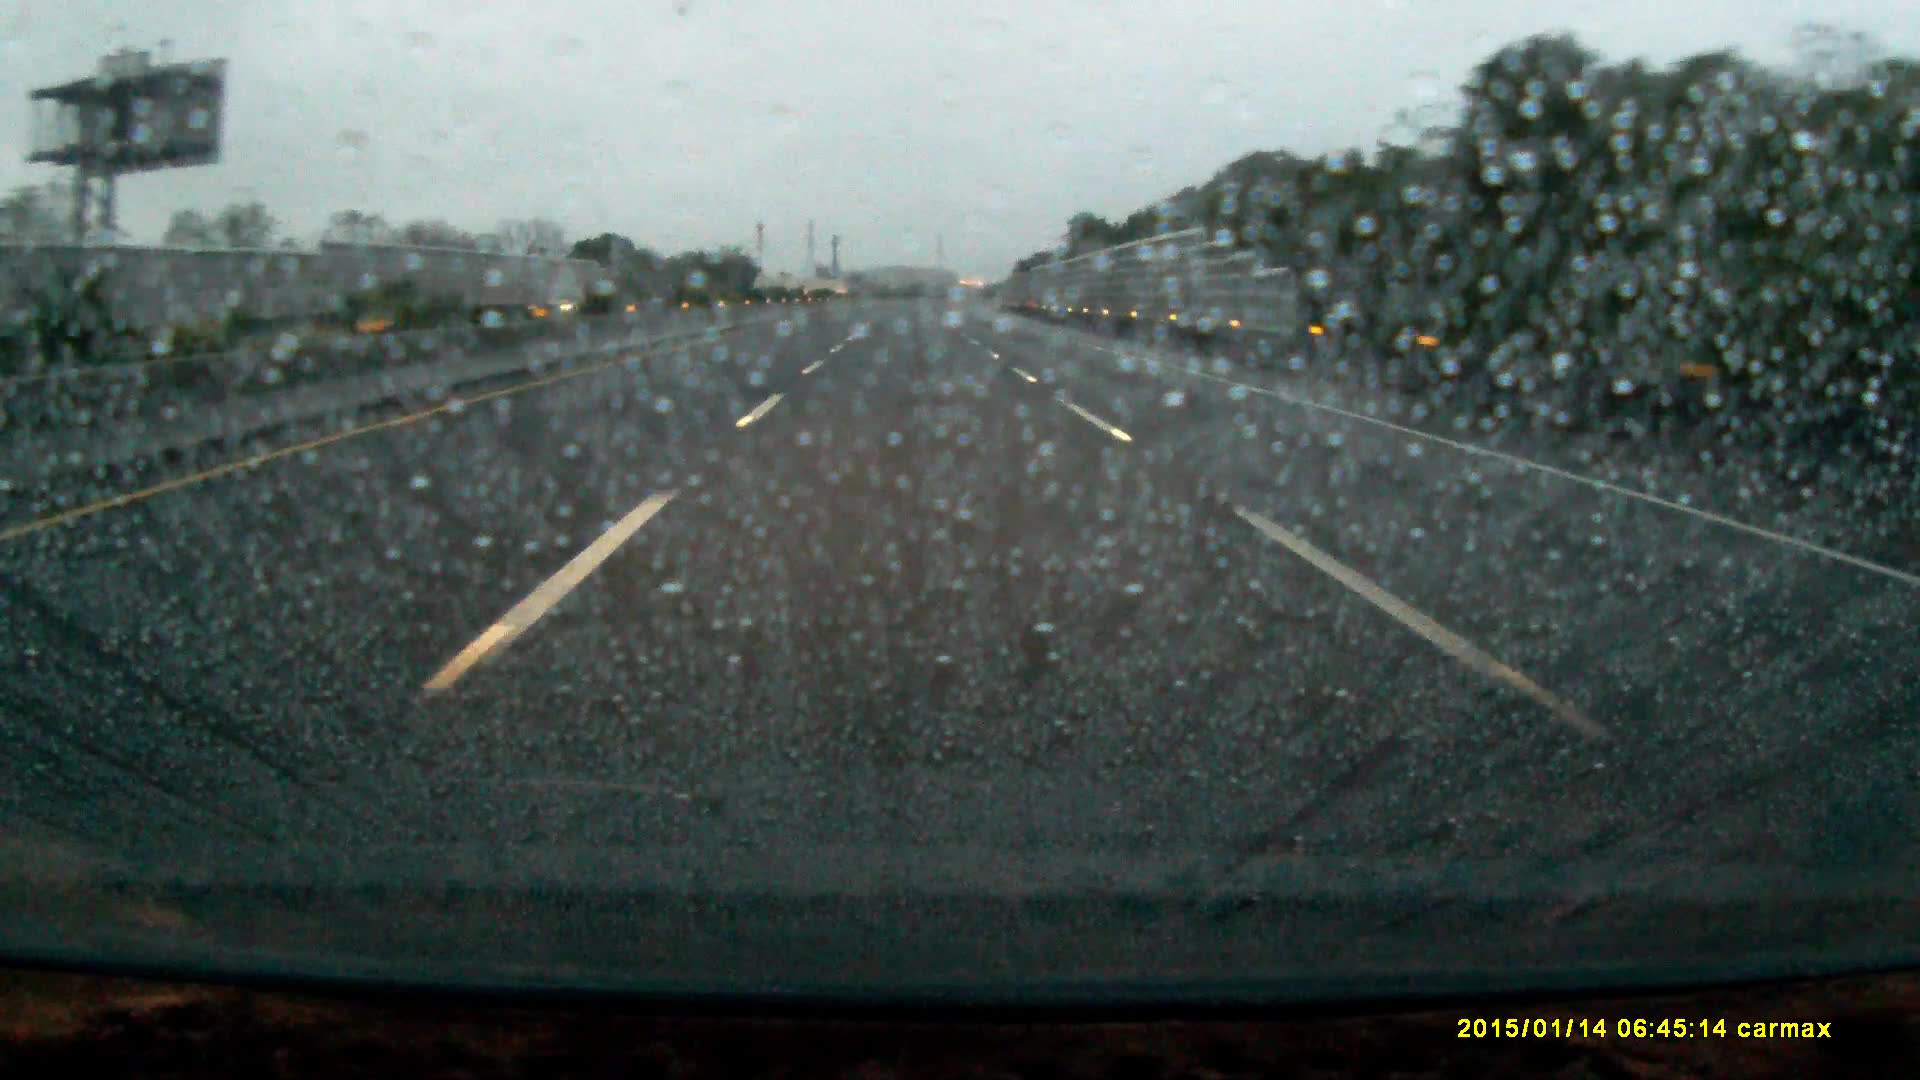vehicle: (530, 284, 591, 313)
